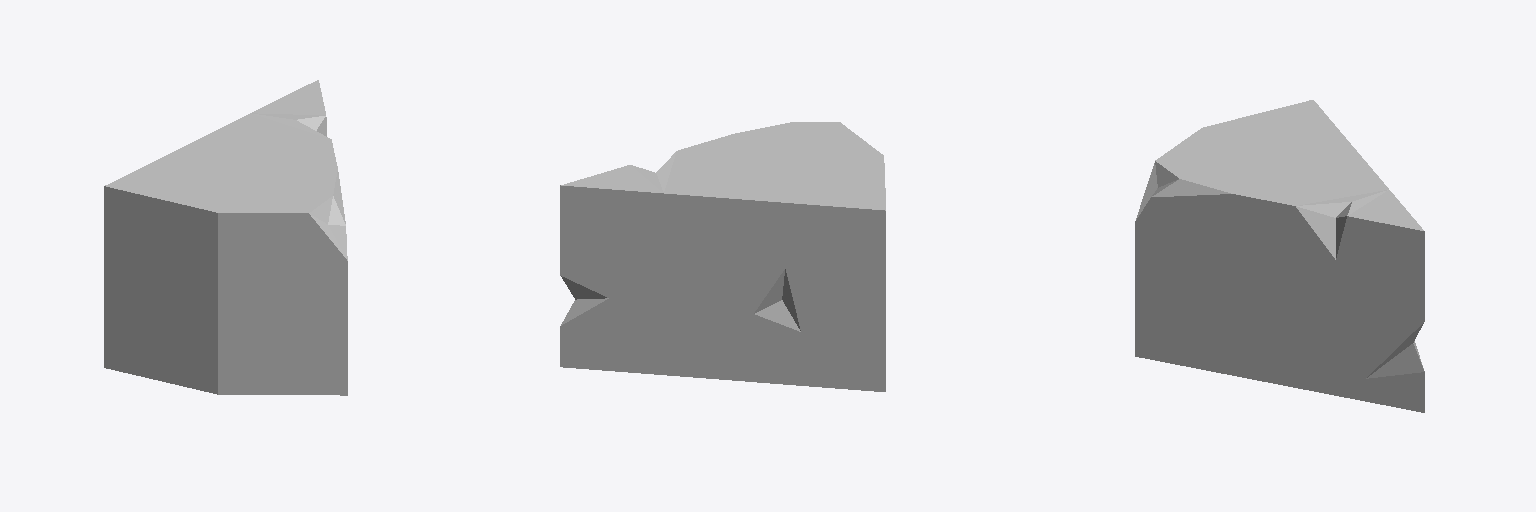
File: Cheese1.obj
The picture shows the model from 3 angles: view 1: azimuth 30°, elevation 25°; view 2: azimuth 150°, elevation 25°; view 3: azimuth 270°, elevation 25°; orthographic projection.
Size of the model in its own units: 0.14 by 0.0903 by 0.13.